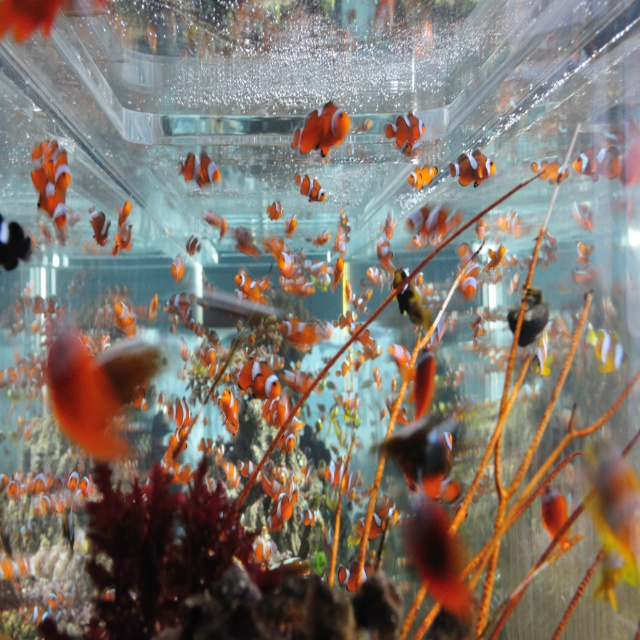Goldfish: (320, 101, 352, 158)
